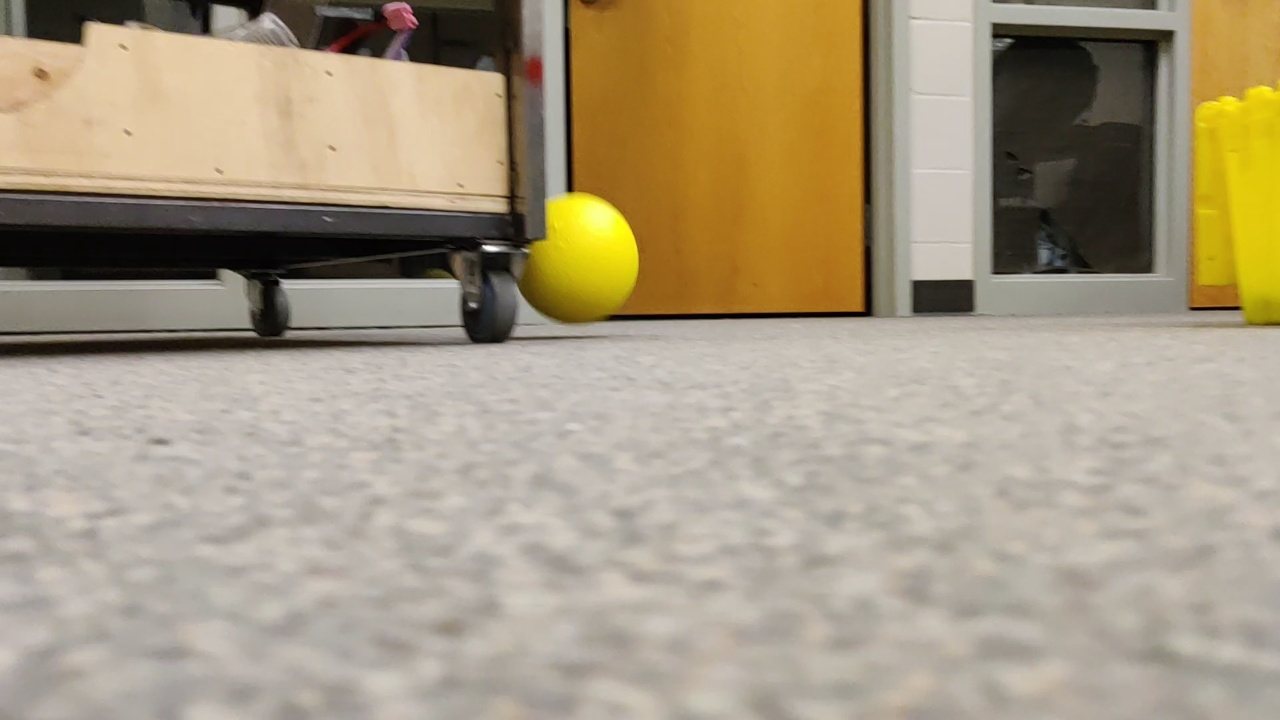Ball: (520, 193, 639, 322)
